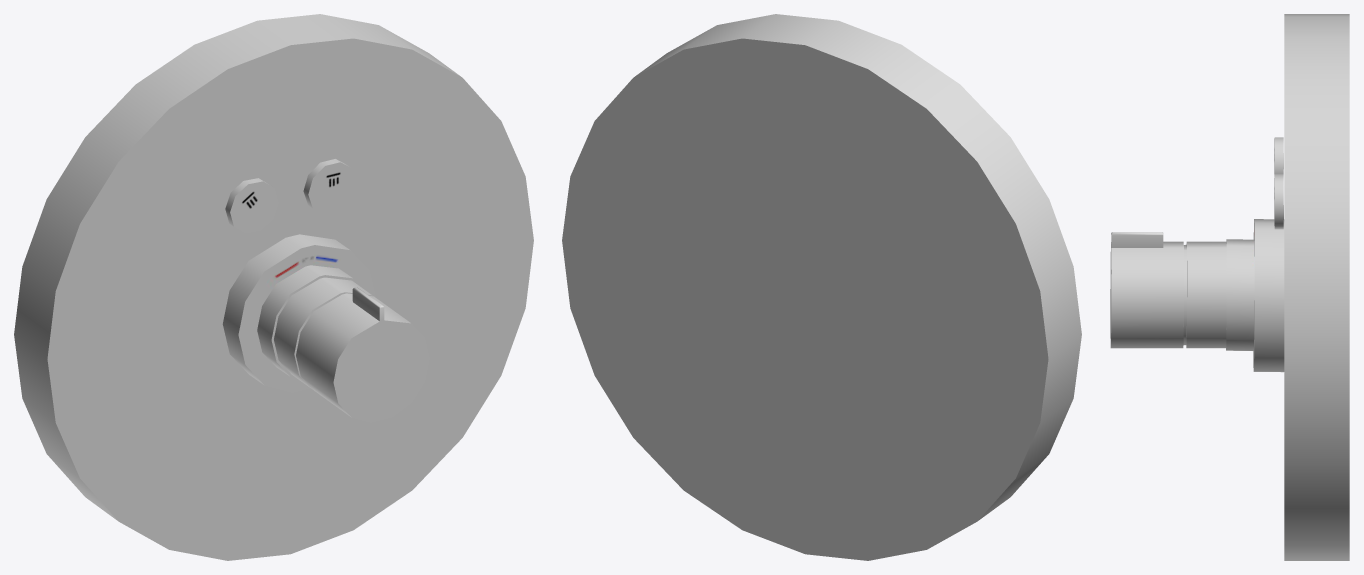
File: BtR_ShowerButton.fbx
3 views of the same model, side by side, from view 1: azimuth 30°, elevation 25°; view 2: azimuth 150°, elevation 25°; view 3: azimuth 270°, elevation 25° (orthographic). The views are drawn at different scales.
Parts seen in each view (by area): view 1: Shower button; view 2: Shower button; view 3: Shower button.
Boxes of the visible parts, left/top/right/bottom form: Shower button: left=14, top=14, right=533, bottom=560; Shower button: left=562, top=14, right=1081, bottom=560; Shower button: left=1110, top=14, right=1349, bottom=560.
Bounding box in the file's own units: 0.1374 × 0.1374 × 0.0599.
